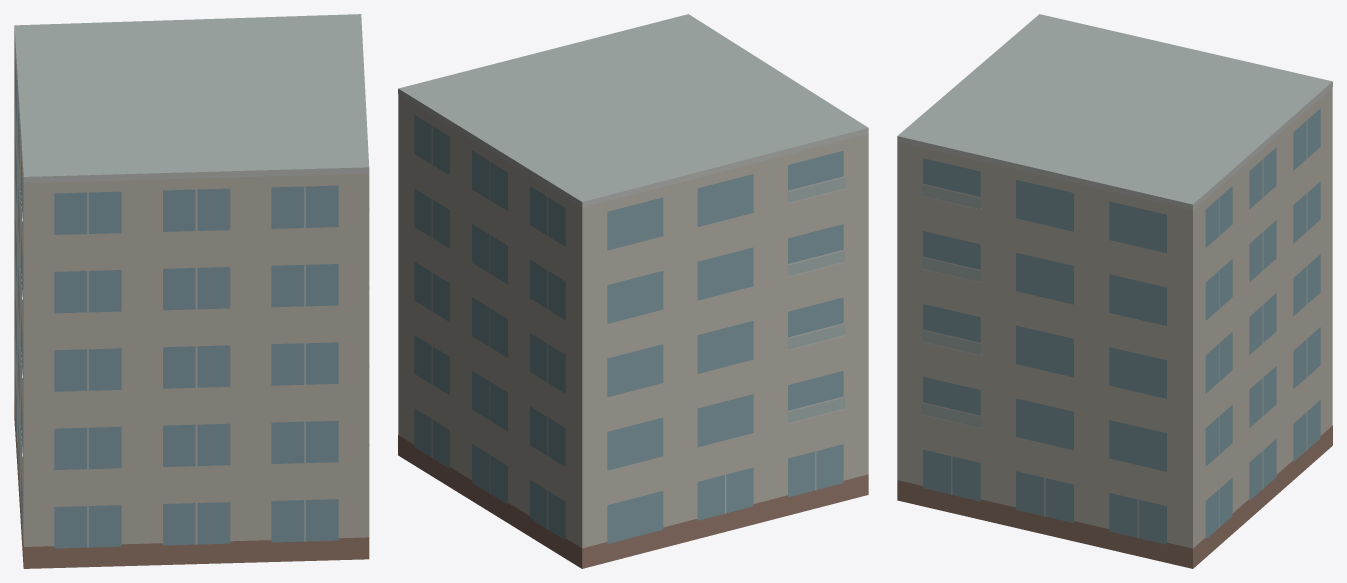
Rendered from survey-upis-32628195.glb.
3 renders of one model, left to right at view 1: azimuth 30°, elevation 25°; view 2: azimuth 150°, elevation 25°; view 3: azimuth 270°, elevation 25°, orthographic. The views are drawn at different scales.
Parts seen in each view (by area): view 1: survey-upis-32628195.tmp; view 2: survey-upis-32628195.tmp; view 3: survey-upis-32628195.tmp.
Boxes of the visible parts, x1,y1,x2,y2 form: survey-upis-32628195.tmp: (14,14,369,568); survey-upis-32628195.tmp: (398,14,868,568); survey-upis-32628195.tmp: (897,14,1332,568).
Size of the model in its own units: 17.12 by 15.25 by 16.53.
